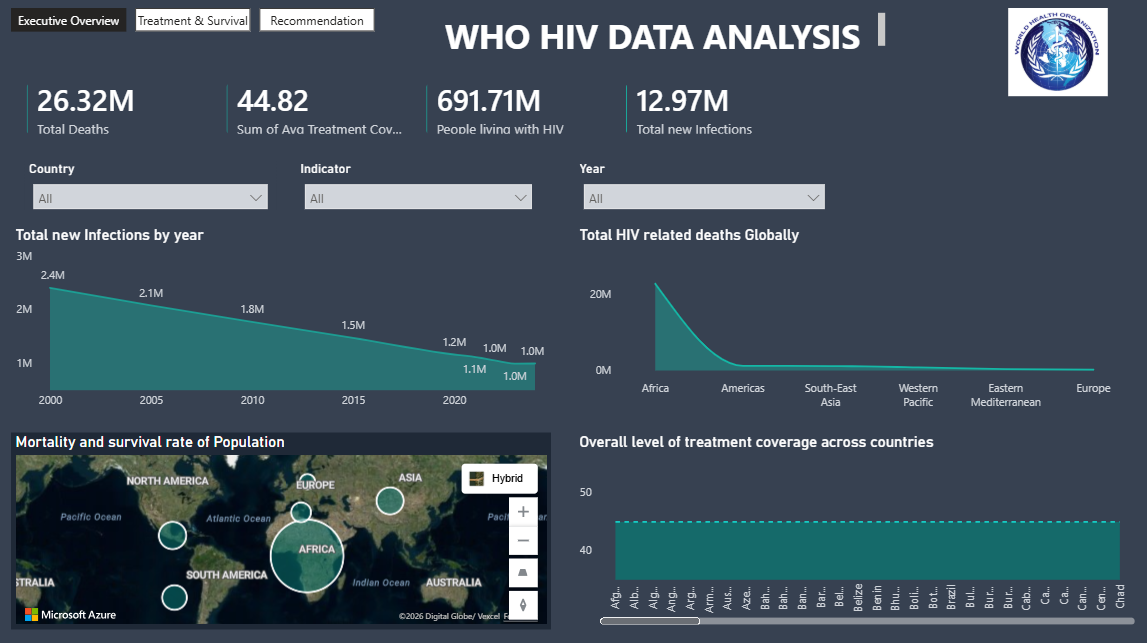

The dashboard page shown, as its layout file describes it:
{"tool":"powerbi","page":{"name":"Executive Overview","canvas":[1280,720],"ordinal":0},"visuals":[{"type":"areaChart","title":"Total new Infections           by year","fields":{"Category":["YearDim.year"],"Y":["All measures.Total new Infections"]},"box":[13.3,255,600,211.7],"z":0},{"type":"areaChart","title":"Total HIV related deaths Globally","fields":{"Category":["LocationDim.continent"],"Y":["All measures.Total Deaths"]},"box":[640,255,626.7,211.7],"z":1000},{"type":"stackedAreaChart","title":"Overall level of treatment coverage across countries","fields":{"Category":["LocationDim.country"],"Y":["Sum(All measures.Avg Treatment Coverage %)"]},"box":[640,485,626.7,218.3],"z":3000},{"type":"pageNavigator","box":[13.2,13.2,406.3,26.5],"z":4000},{"type":"image","box":[1099.9,13.2,153.1,98.3],"z":5000},{"type":"slicer","title":"Country","fields":{"Values":["LocationDim.country"]},"box":[28.3,183.3,279.7,54.8],"z":6000},{"type":"slicer","title":"Indicator","fields":{"Values":["IndicatorDim.indicator"]},"box":[330.7,183.3,272.1,54.8],"z":7000},{"type":"slicer","title":"Year","fields":{"Values":["YearDim.year"]},"box":[640.6,183.3,287.2,54.8],"z":8000},{"type":"cardVisual","fields":{"Data":["All measures.Total Deaths","Sum(All measures.Avg Treatment Coverage %)","All measures.People living with HIV","All measures.Total new Infections"]},"box":[13.3,80,915,90],"z":9000},{"type":"textbox","box":[470.6,13.2,519.7,52.9],"z":10000},{"type":"azureMap","title":"Mortality and survival rate of Population","fields":{"Size":["All measures.Total Deaths"],"Category":["LocationDim.continent"]},"box":[13.3,485,600,218.3],"z":10001}]}

Visuals, with their boxes in screenshot pixels (x1, y1, x2, y2), scaled from the page's 1280x720 canvas onto the 1147x643 screenshot:
"Total new Infections           by year" areaChart: x1=12, y1=228, x2=550, y2=417
"Total HIV related deaths Globally" areaChart: x1=574, y1=228, x2=1135, y2=417
"Overall level of treatment coverage across countries" stackedAreaChart: x1=574, y1=433, x2=1135, y2=628
pageNavigator: x1=12, y1=12, x2=376, y2=35
image: x1=986, y1=12, x2=1123, y2=100
"Country" slicer: x1=25, y1=164, x2=276, y2=213
"Indicator" slicer: x1=296, y1=164, x2=540, y2=213
"Year" slicer: x1=574, y1=164, x2=831, y2=213
cardVisual - All measures.Total Deaths x Sum(All measures.Avg Treatment Coverage %): x1=12, y1=71, x2=832, y2=152
textbox: x1=422, y1=12, x2=887, y2=59
"Mortality and survival rate of Population" azureMap: x1=12, y1=433, x2=550, y2=628
